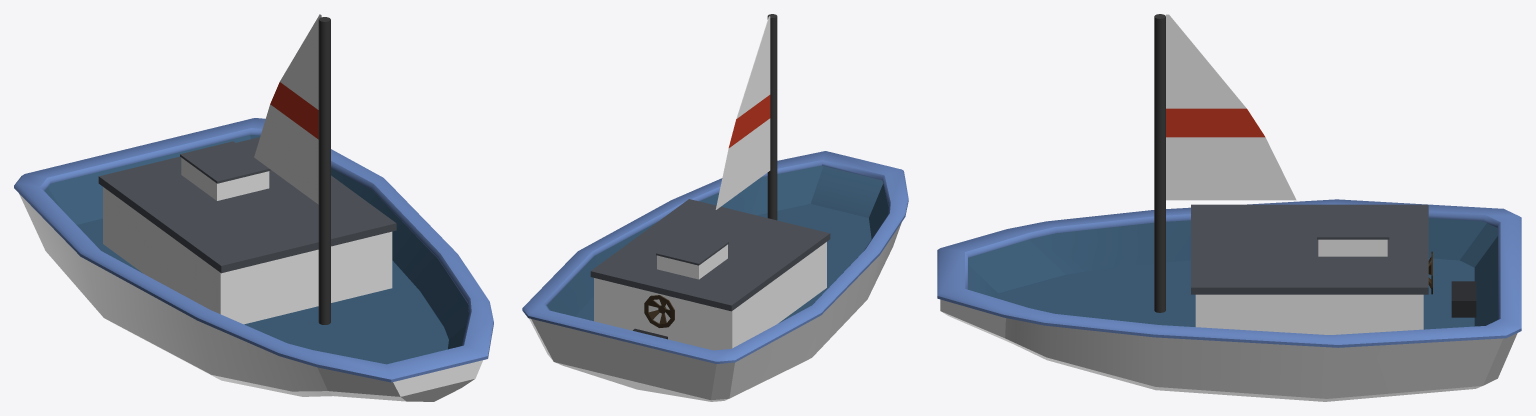
Rendered from Boat_2.fbx.
The picture shows the model from 3 angles, left to right: view 1: azimuth 30°, elevation 25°; view 2: azimuth 150°, elevation 25°; view 3: azimuth 270°, elevation 25°; orthographic projection. The views are drawn at different scales.
Visible parts, largest first — view 1: Boat_2; view 2: Boat_2; view 3: Boat_2.
Part boxes in pixels (bbox=[...]): Boat_2: bbox=[14, 14, 493, 401]; Boat_2: bbox=[522, 14, 908, 401]; Boat_2: bbox=[937, 14, 1521, 401].
Size of the model in its own units: 498 by 552 by 852.
